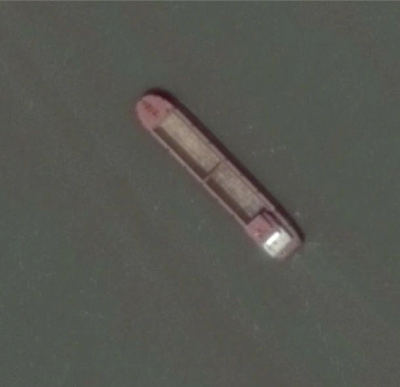boat: (134, 92, 306, 267)
